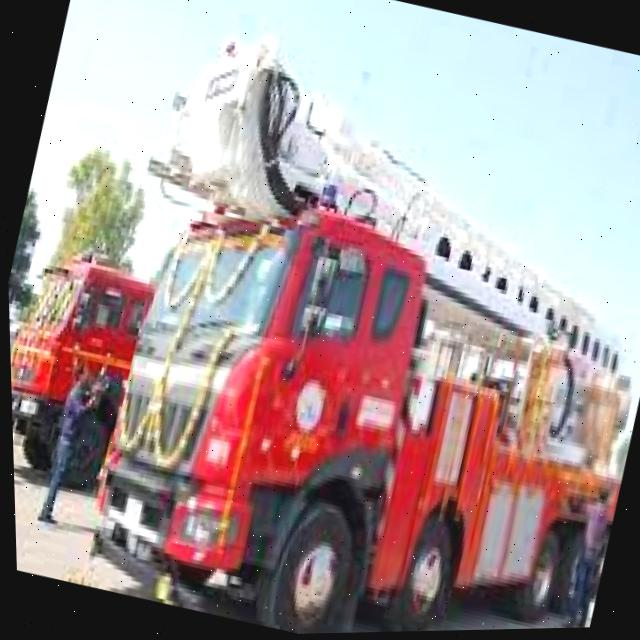Fire Truck: (70, 194, 640, 639)
